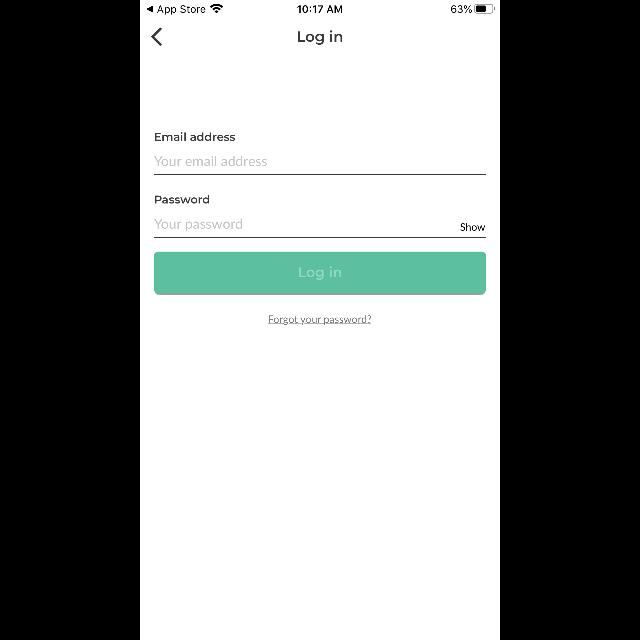icon: (151, 28, 161, 46)
input: (154, 218, 486, 238), (154, 156, 486, 174)
text: (154, 218, 242, 232), (154, 156, 266, 166), (268, 316, 372, 324), (155, 132, 235, 142), (298, 30, 342, 46), (155, 195, 209, 203), (461, 223, 485, 231)
textbutton: (154, 252, 486, 294)
uppertaskbar: (140, 1, 500, 15)
